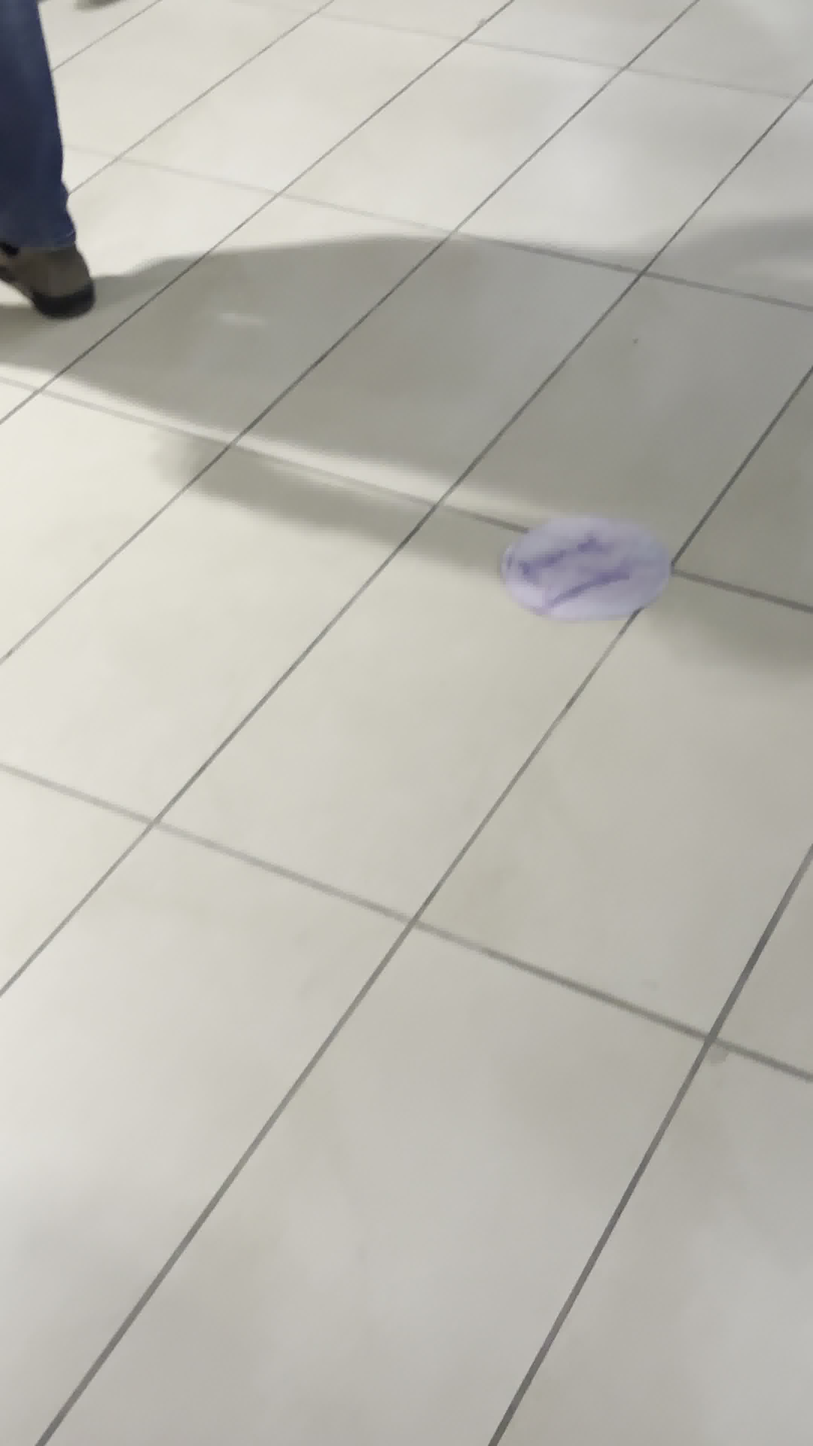Target: (502, 516, 669, 621)
